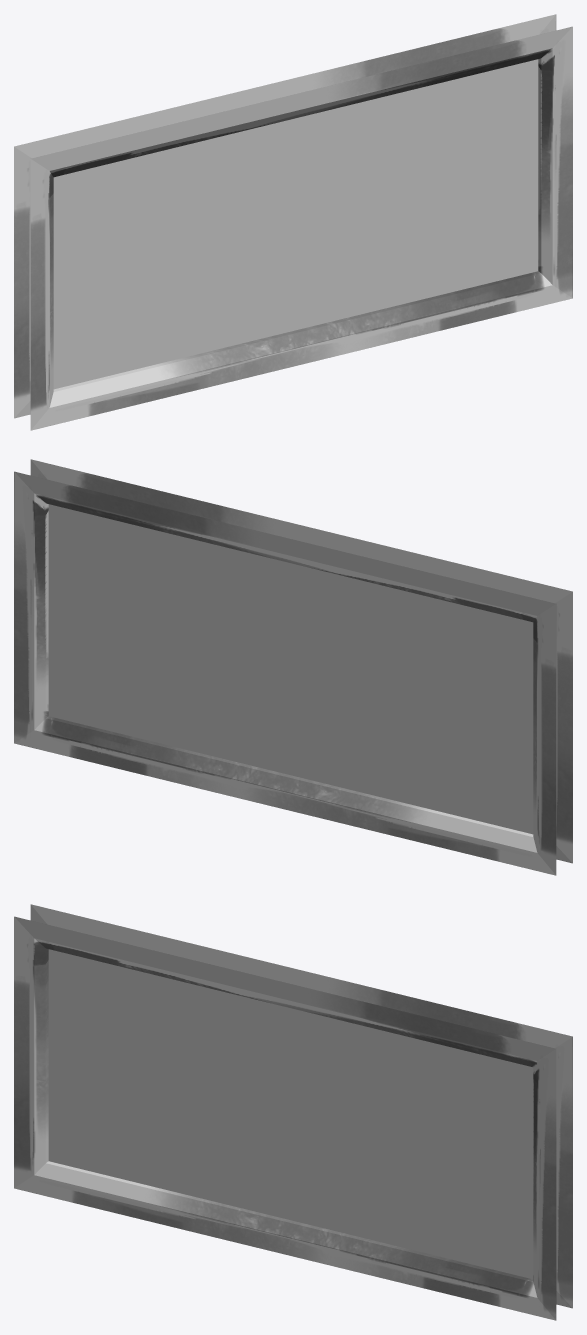
The model's file is Window_Asset.fbx.
The picture shows the model from 3 angles, top to bottom: view 1: azimuth 30°, elevation 25°; view 2: azimuth 150°, elevation 25°; view 3: azimuth 330°, elevation 25°; orthographic projection.
Visible parts, largest first — view 1: Window; view 2: Window; view 3: Window.
Boxes of the visible parts, <box> form: Window: <box>14,14,572,430</box>; Window: <box>14,459,572,875</box>; Window: <box>14,904,572,1320</box>.
Bounding box in the file's own units: 207 × 11.03 × 99.16.
Materials: 2 (1 with a texture image).
